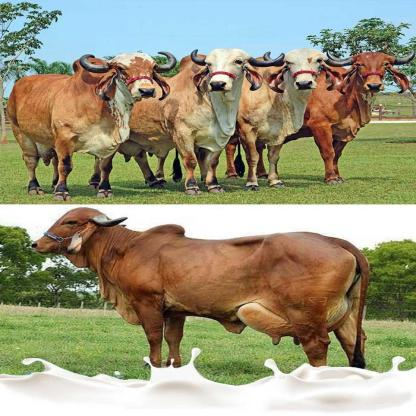cow: (34, 209, 368, 368), (11, 55, 160, 200), (116, 50, 252, 195), (302, 53, 406, 182), (234, 47, 328, 189)
